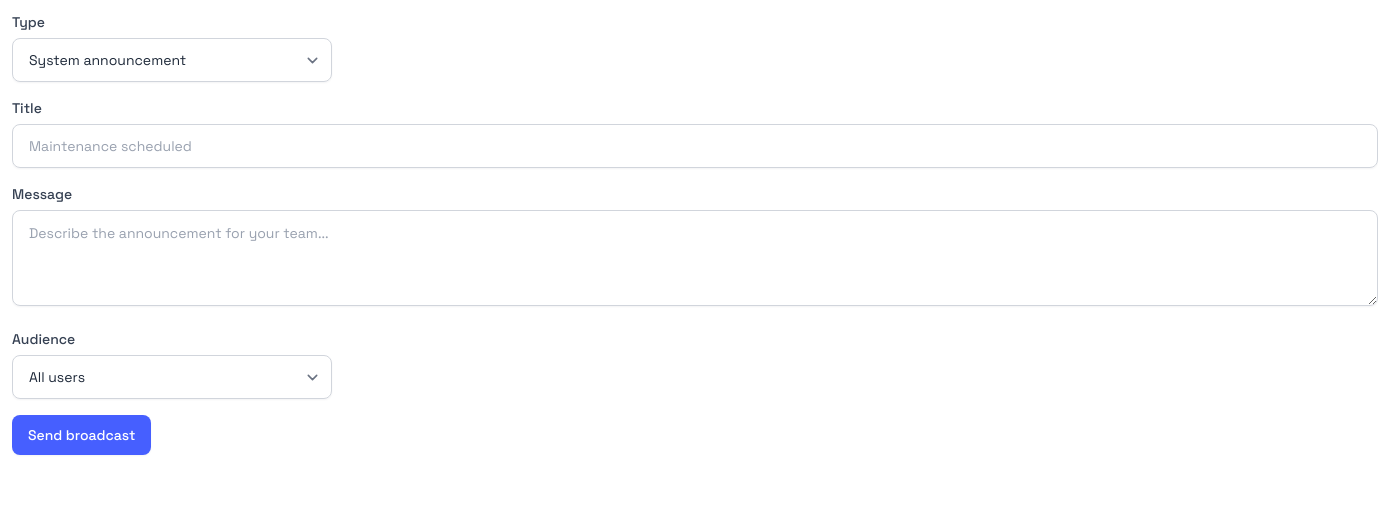
it: NotificationBroadcastForm › shows role options when audience is by role
Expected: the button "Send broadcast" is enabled, [12,415,151,455]
Select "By role" in the dropdown labelled "Audience" at {"x": 172, "y": 377}, box [12,355,332,399]
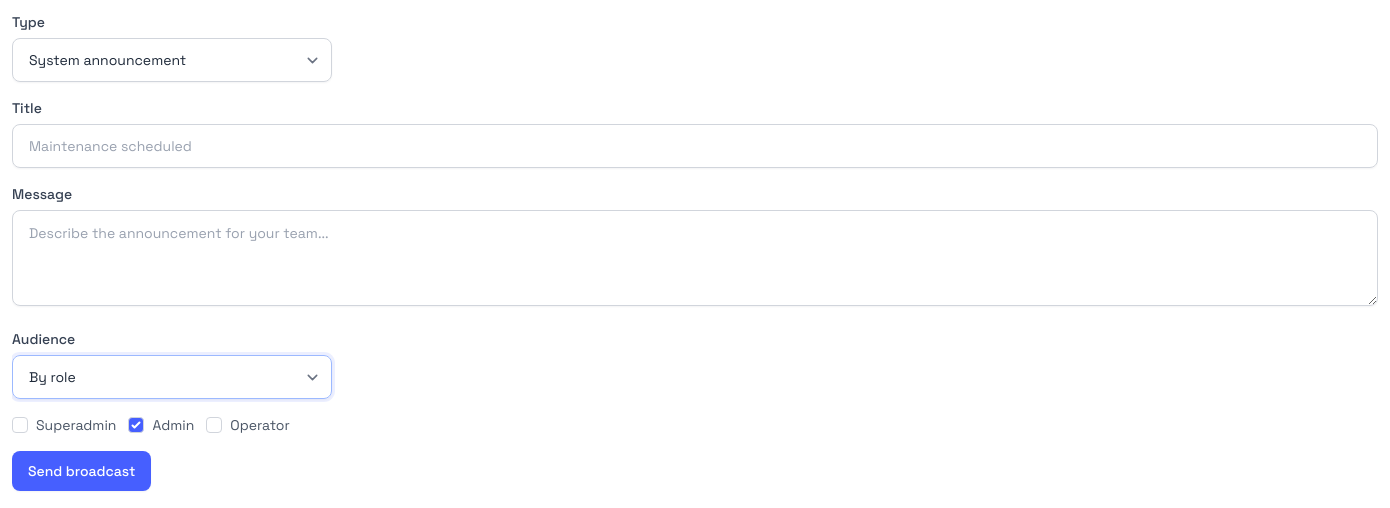
Expected: the checkbox labelled "admin" is shown, [128,417,144,433]
Expected: the checkbox labelled "operator" is shown, [206,417,222,433]
